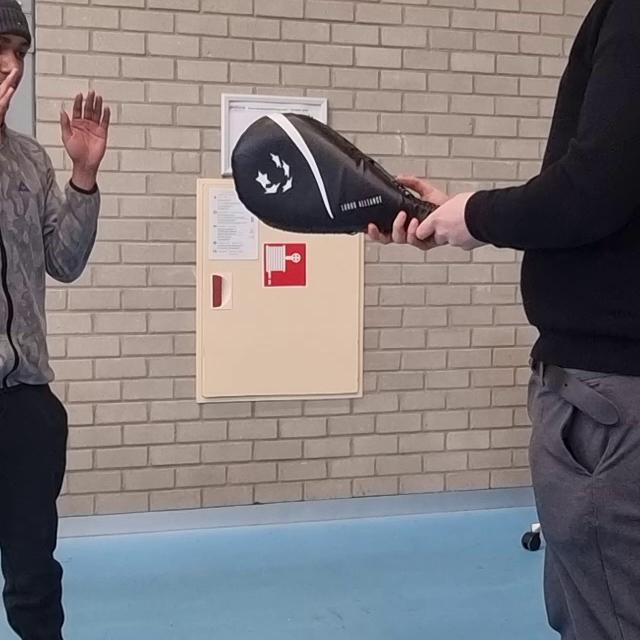paddle: (230, 111, 436, 235)
